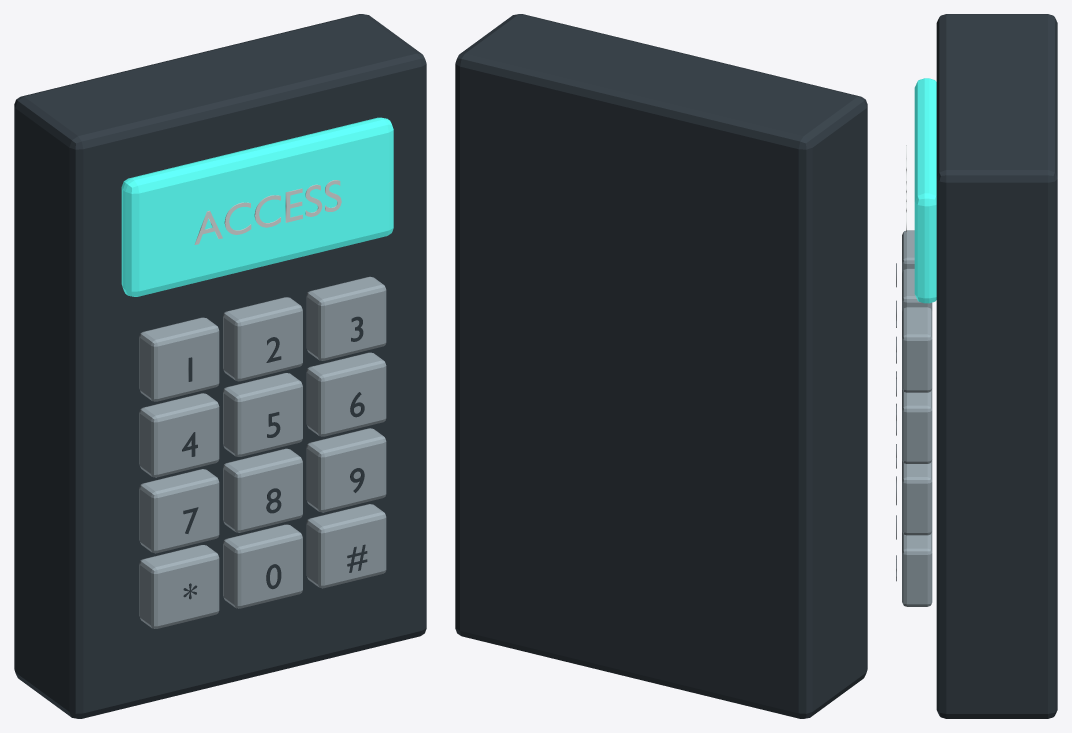
Rendered from keypad.glb.
The picture shows the model from 3 angles, left to right: view 1: azimuth 30°, elevation 25°; view 2: azimuth 150°, elevation 25°; view 3: azimuth 270°, elevation 25°; orthographic projection. The views are drawn at different scales.
Visible parts, largest first — view 1: Casing, Display, Key.009, Key, Key.006, Key.002, Key.003, Key.005, Key.008, Key.011, Key.001, Key.004 (+3 smaller); view 2: Casing; view 3: Casing, Display, Key.002, Key.011, Key.005, Key.008, Key.001, Key.
Boxes of the visible parts, x1=… form: Casing: x1=14, y1=14, x2=426, y2=718; Display: x1=121, y1=117, x2=393, y2=296; Key.009: x1=139, y1=545, x2=219, y2=628; Key: x1=139, y1=317, x2=219, y2=401; Key.006: x1=139, y1=469, x2=219, y2=553; Key.002: x1=306, y1=276, x2=386, y2=360; Key.003: x1=139, y1=393, x2=219, y2=477; Key.005: x1=306, y1=352, x2=386, y2=436; Key.008: x1=306, y1=428, x2=386, y2=512; Key.011: x1=306, y1=504, x2=386, y2=588; Key.001: x1=223, y1=297, x2=302, y2=381; Key.004: x1=223, y1=373, x2=302, y2=456; Casing: x1=455, y1=14, x2=867, y2=718; Casing: x1=936, y1=14, x2=1057, y2=718; Display: x1=914, y1=78, x2=936, y2=303; Key.002: x1=902, y1=307, x2=932, y2=392; Key.011: x1=902, y1=531, x2=932, y2=606; Key.005: x1=902, y1=388, x2=932, y2=463; Key.008: x1=902, y1=460, x2=932, y2=535; Key.001: x1=902, y1=268, x2=932, y2=311; Key: x1=902, y1=230, x2=914, y2=272.
Size of the model in its own units: 0.32 by 0.5 by 0.1333.
